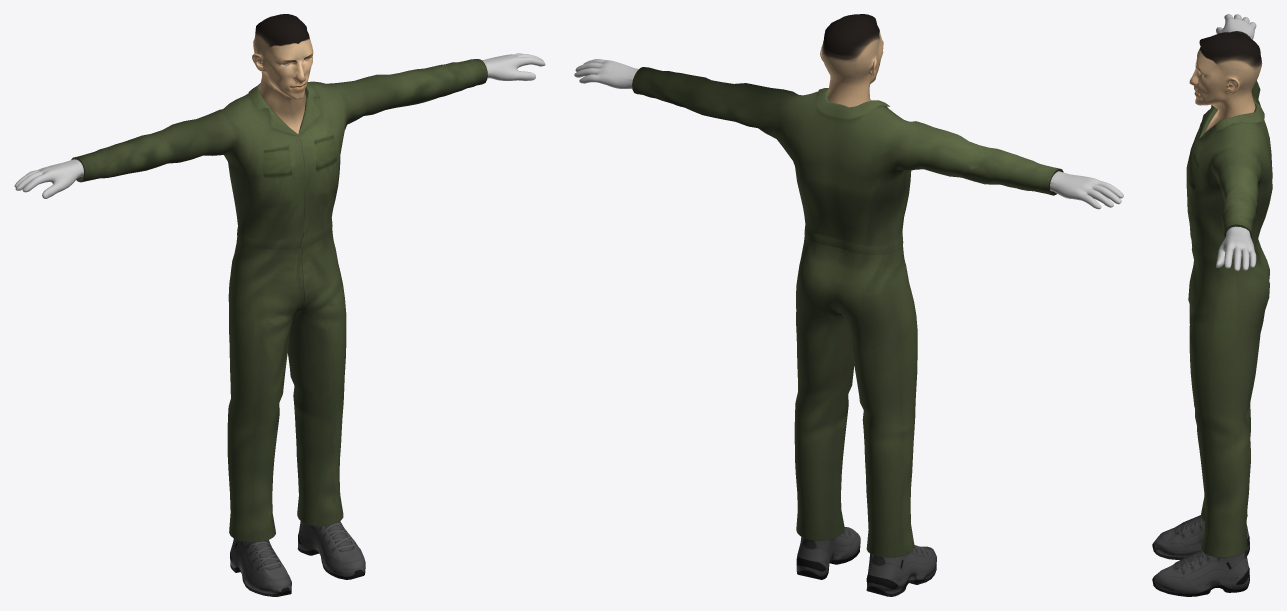
File: ji_rig_7_7.fbx
3 renders of one model, left to right at view 1: azimuth 30°, elevation 25°; view 2: azimuth 150°, elevation 25°; view 3: azimuth 270°, elevation 25°, orthographic. The views are drawn at different scales.
Visible parts, largest first — view 1: Jumpsuit, head, shoe_left, shoe_right, glove_right, glove_left; view 2: Jumpsuit, head, shoe_right, shoe_left, glove_right, glove_left; view 3: Jumpsuit, head, shoe_left, shoe_right, glove_left, glove_right.
Boxes of the visible parts, x1,y1,x2,y2 form: Jumpsuit: (71,59,487,542); head: (252,14,313,134); shoe_left: (297,521,365,579); shoe_right: (230,538,291,596); glove_right: (14,159,83,198); glove_left: (482,53,545,80); Jumpsuit: (632,67,1063,557); head: (820,14,883,107); shoe_right: (866,545,936,596); shoe_left: (796,527,860,579); glove_right: (1049,171,1123,209); glove_left: (574,59,638,88); Jumpsuit: (1186,31,1272,557); head: (1189,32,1262,132); shoe_left: (1152,549,1249,596); shoe_right: (1152,515,1249,559); glove_left: (1216,226,1256,271); glove_right: (1216,14,1256,39).
Bounding box in the file's own units: 178 × 176 × 35.84.
